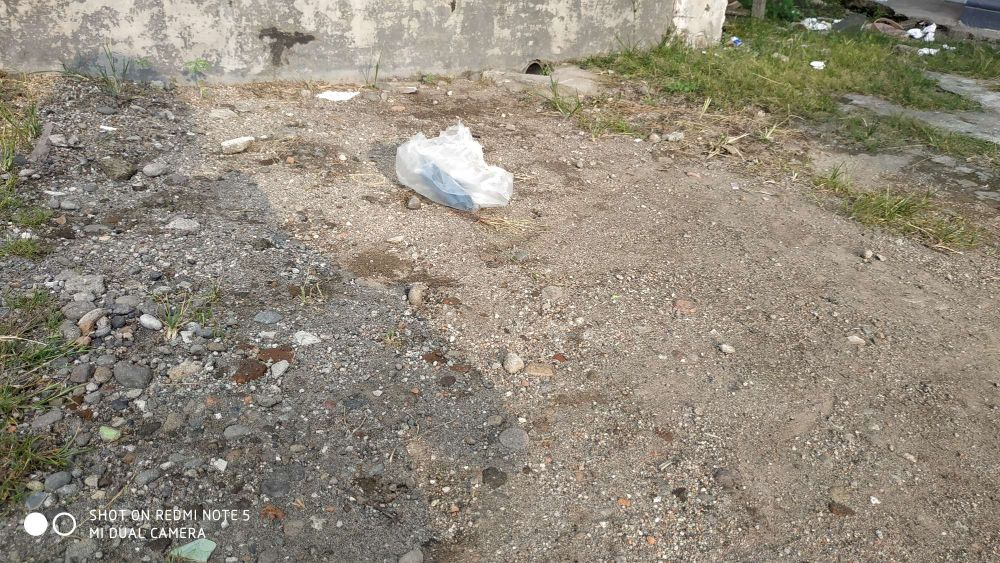plastik: (381, 111, 519, 220)
